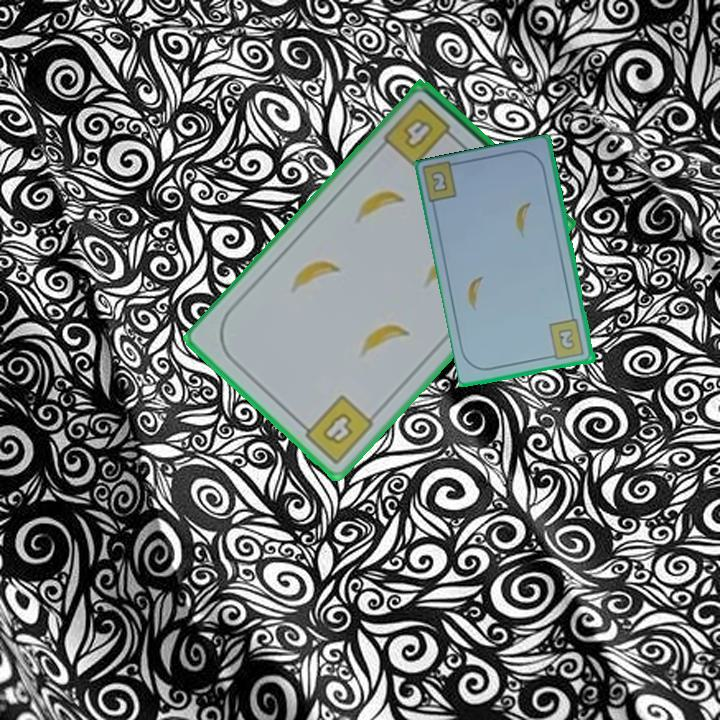2b: (545, 316, 587, 363), (427, 167, 451, 196)
4b: (295, 392, 377, 468), (379, 95, 462, 170)
